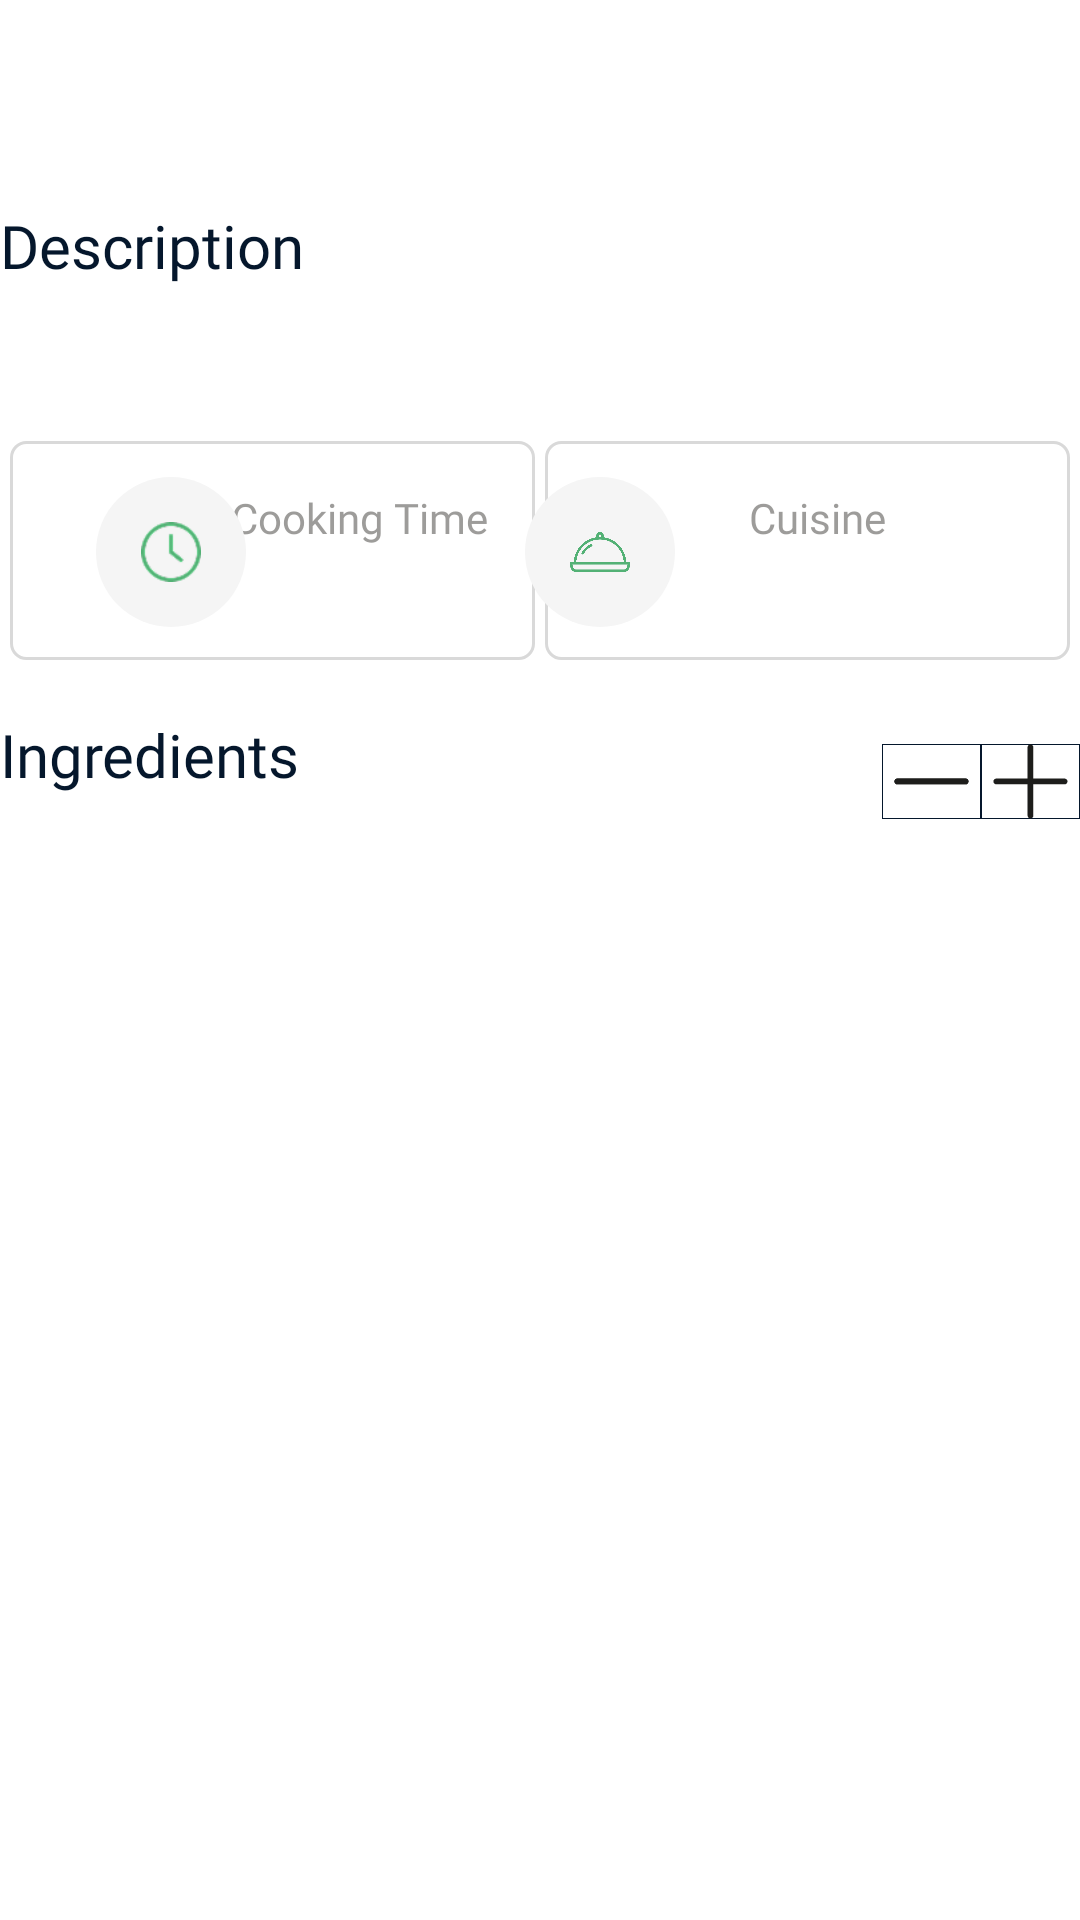

Named icons in this screenshot (1080px×1920px) and their bounding boxes, (x1, y1, x2, y2):
dish: (525, 477, 675, 627)
hour: (96, 477, 246, 627)
plus: (981, 744, 1080, 819)
